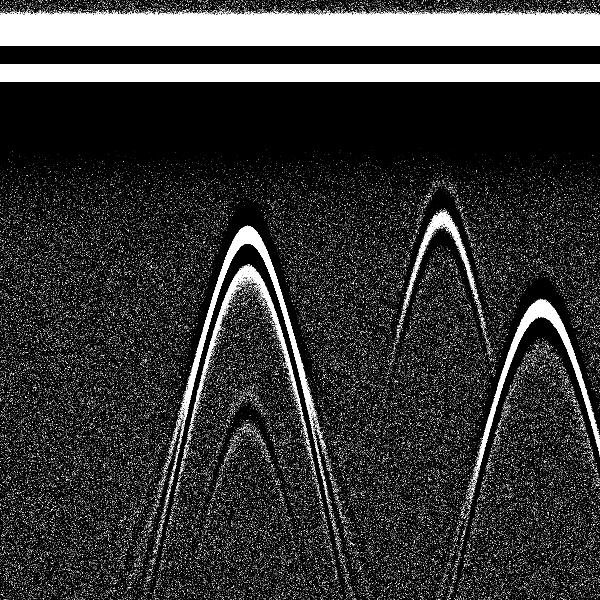pipe: (492, 3, 589, 380), (197, 6, 298, 313), (404, 4, 478, 268)
